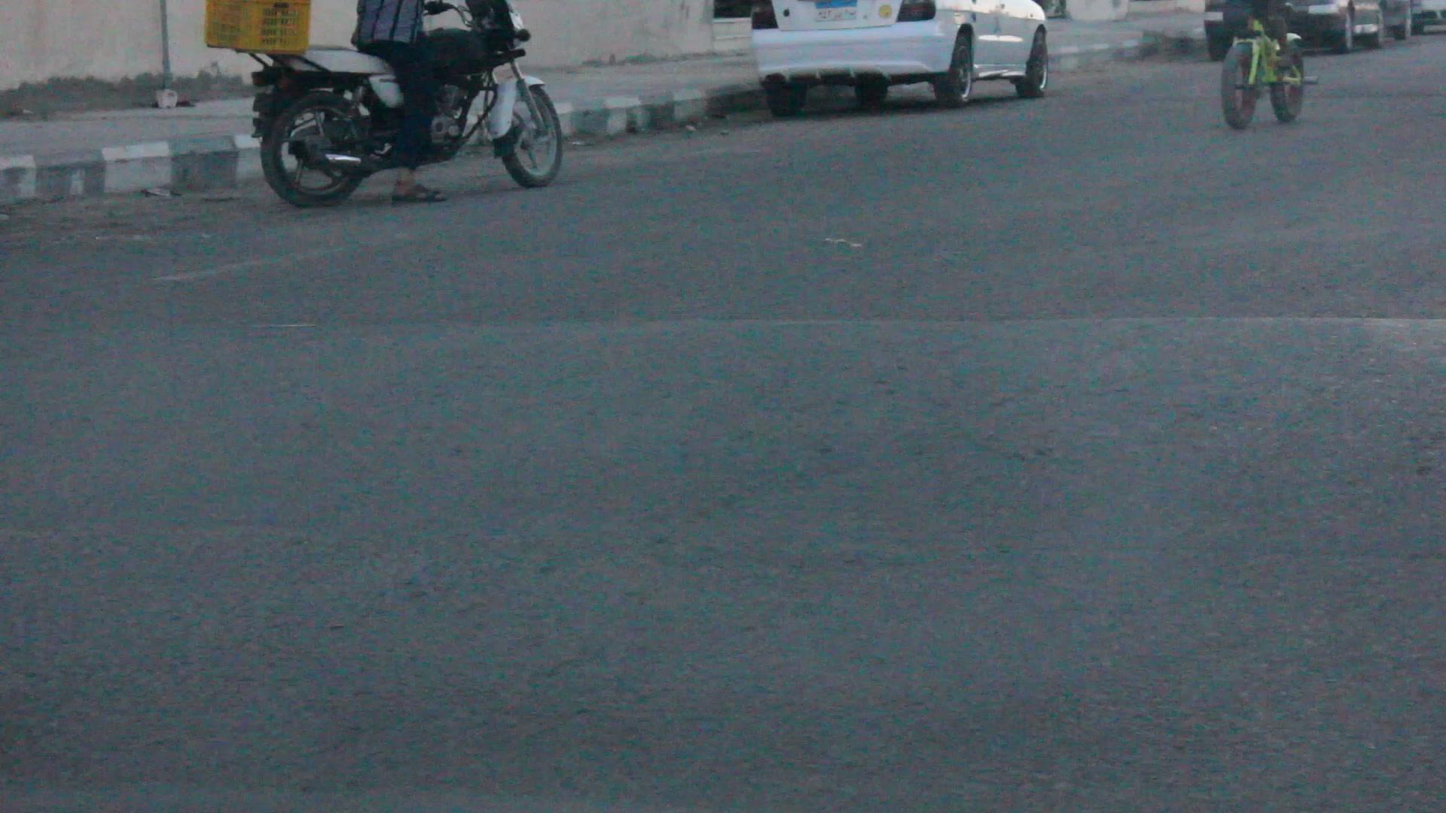Bump: (4, 309, 1446, 606)
